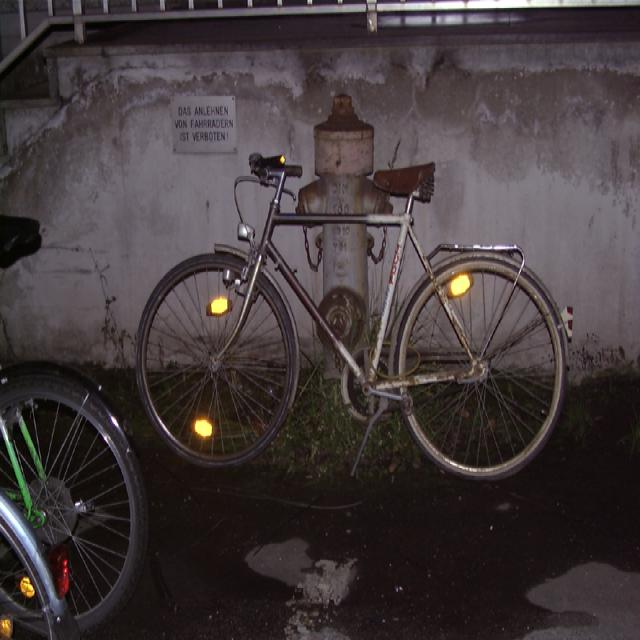bicycle: (134, 148, 570, 481), (0, 209, 148, 639)
